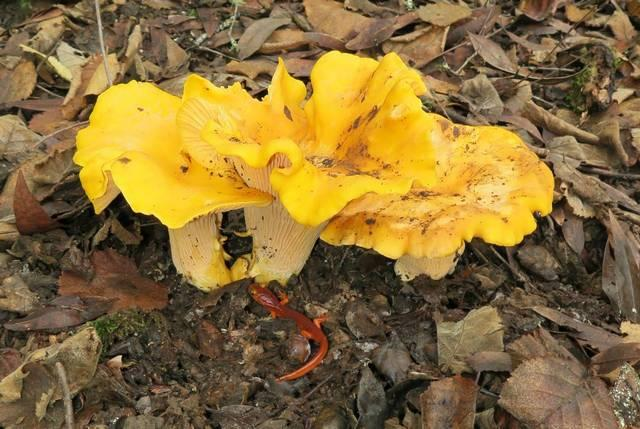Edible Mushroom: (272, 52, 553, 293), (72, 74, 275, 292)
